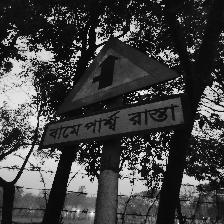Side-road-left: (41, 37, 188, 150)
